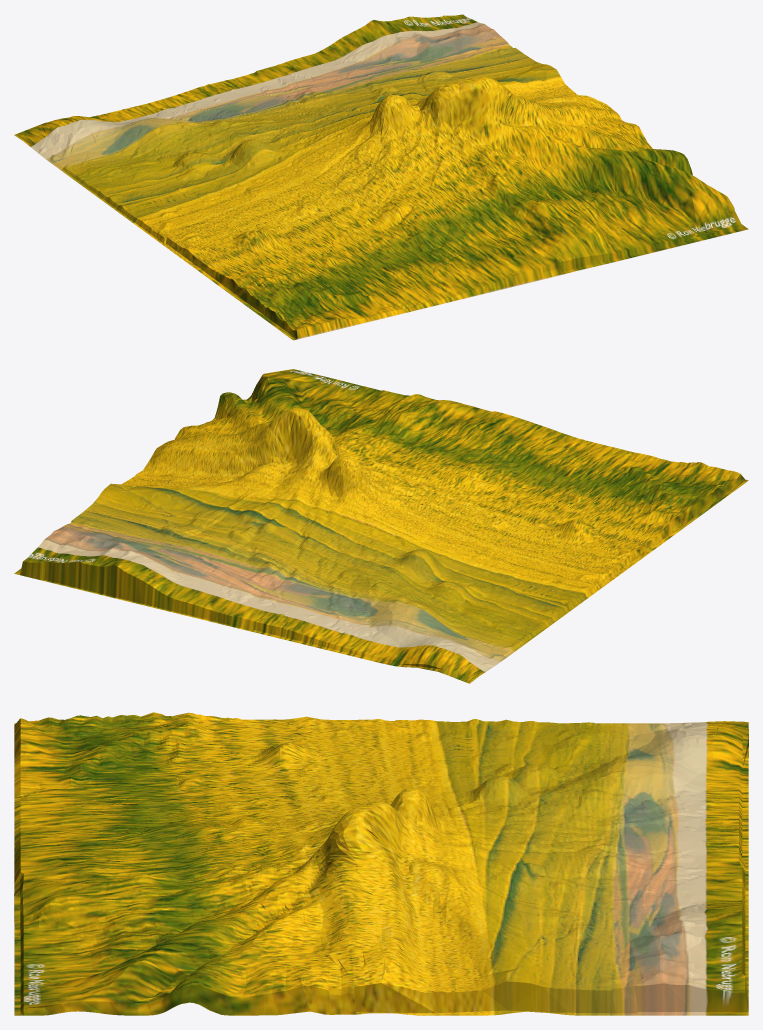
File: mountain4.obj
3 renders of one model, top to bottom at view 1: azimuth 30°, elevation 25°; view 2: azimuth 150°, elevation 25°; view 3: azimuth 270°, elevation 25°, orthographic. The views are drawn at different scales.
Parts seen in each view (by area): view 1: vue_ready_shasta.003; view 2: vue_ready_shasta.003; view 3: vue_ready_shasta.003.
Boxes of the visible parts, <box> form: vue_ready_shasta.003: <box>14,14,748,340</box>; vue_ready_shasta.003: <box>14,369,748,683</box>; vue_ready_shasta.003: <box>14,712,748,1015</box>.
Size of the model in its own units: 16.18 by 2.97 by 16.95.
Materials: 1 (1 with a texture image).
